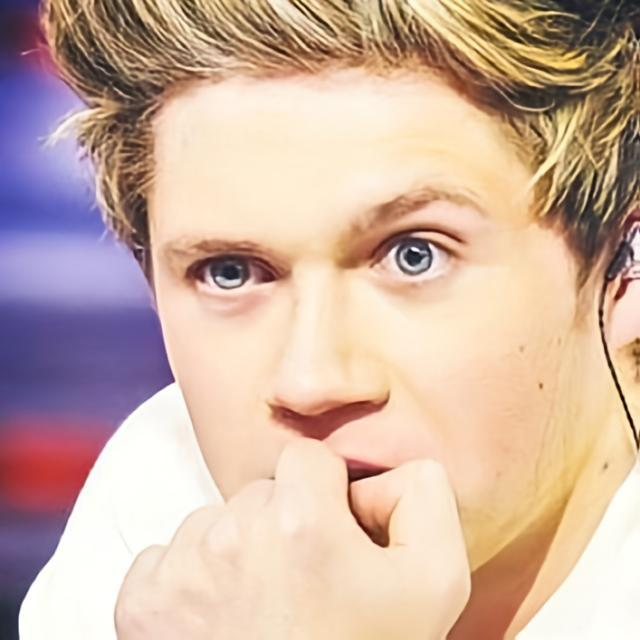surprise: (146, 60, 604, 588)
